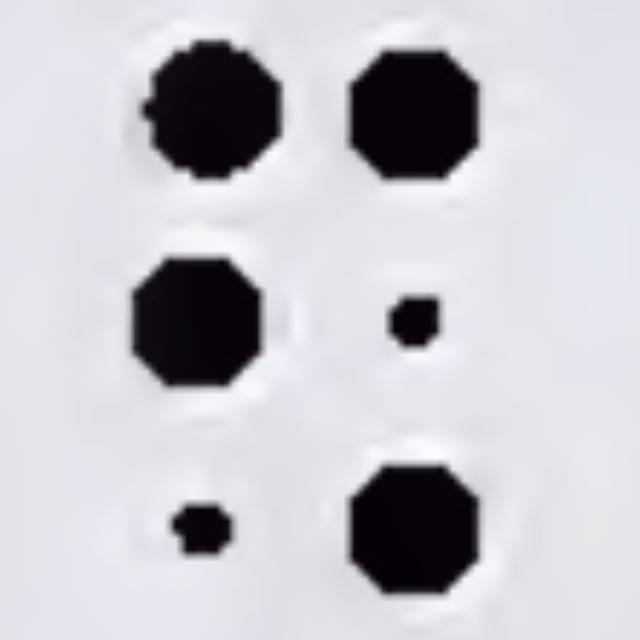one_cell_non_alphabet_naging: (126, 39, 480, 597)
